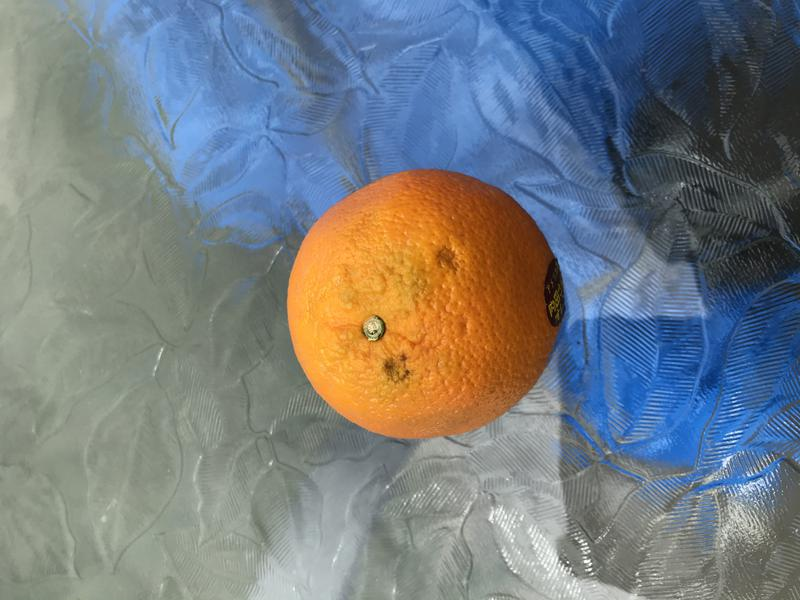orange: (278, 152, 576, 450)
